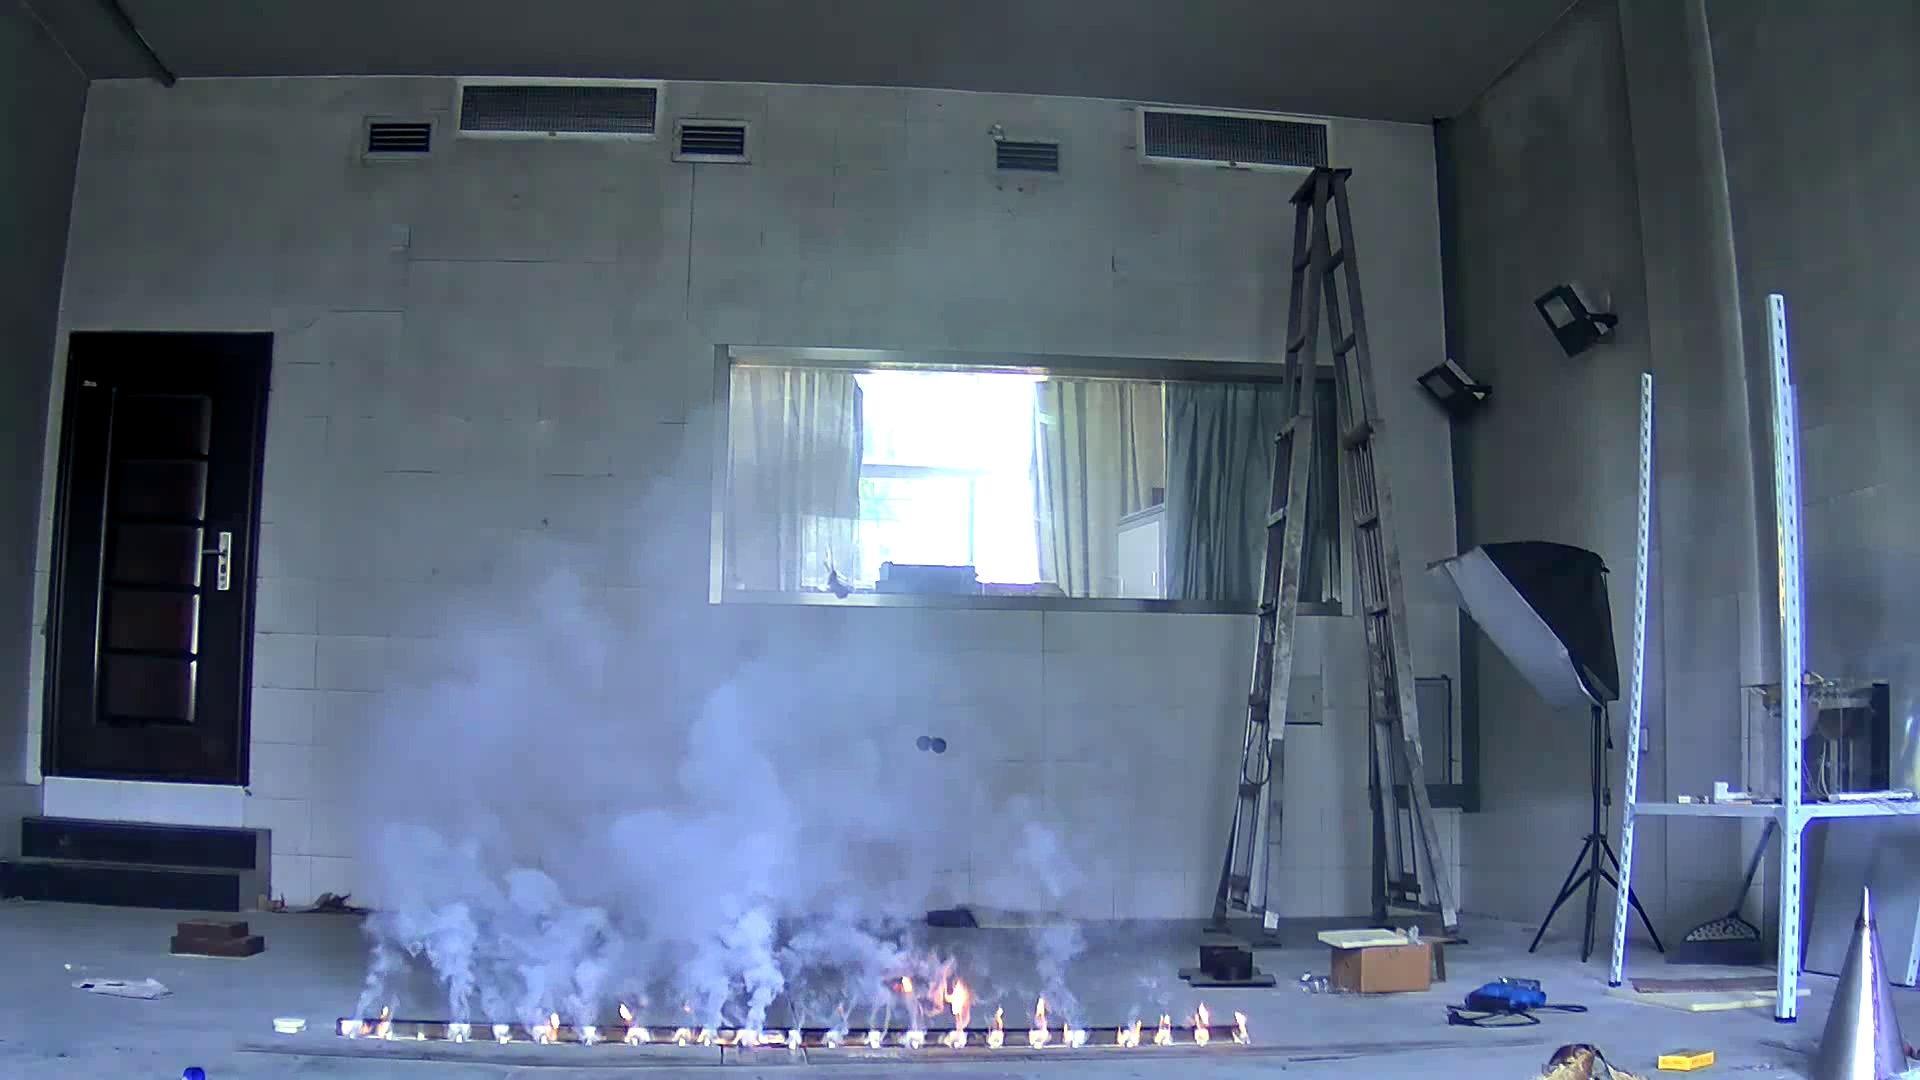smoke: (638, 676, 827, 1047), (352, 795, 607, 1034), (967, 752, 1113, 1059)
